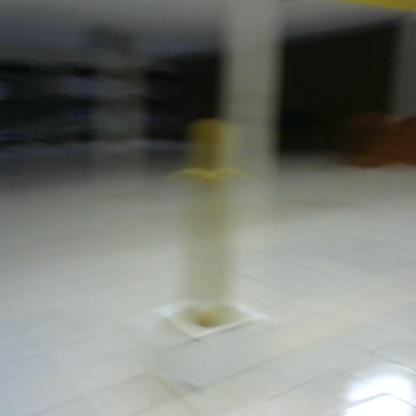pole: (168, 115, 253, 328)
